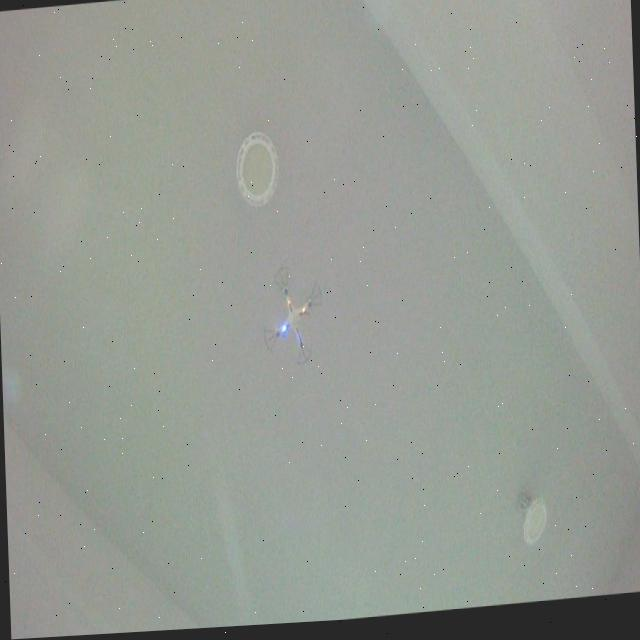drone: (260, 263, 326, 373)
